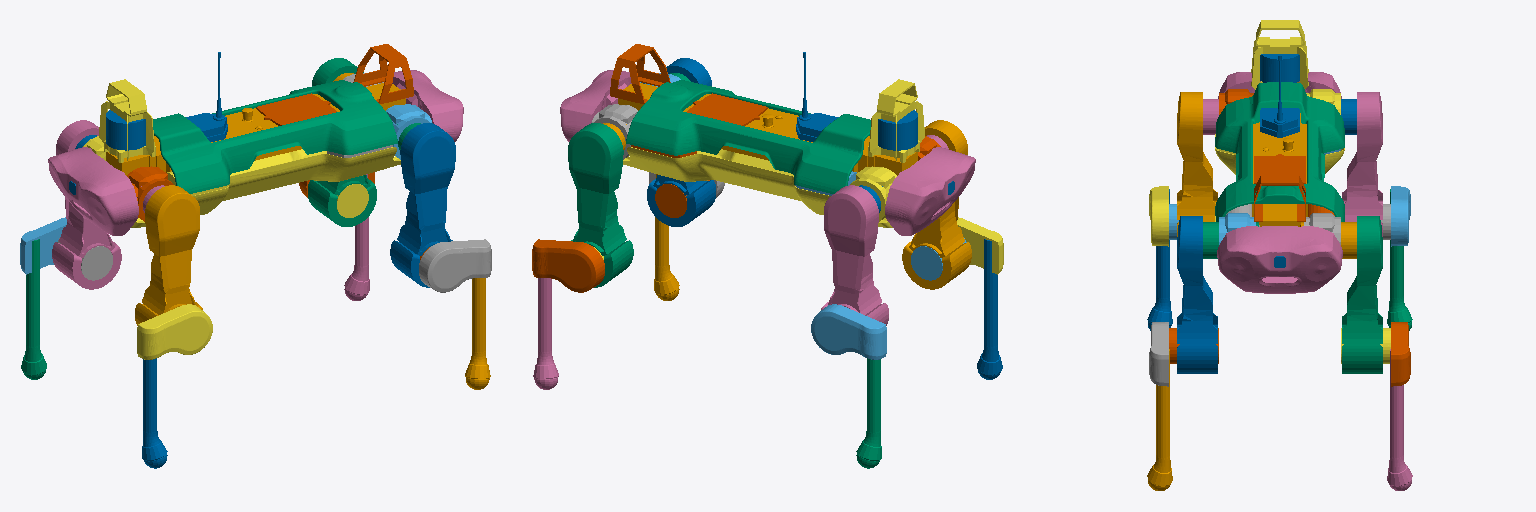
--- Facts derived from the render (not from the file) ---
Views: 3 orthographic renders of the robot side by side, from view 1: azimuth 30°, elevation 25°; view 2: azimuth 150°, elevation 25°; view 3: azimuth 270°, elevation 25°.
Model anymal with 78 links and 77 joints (12 revolute, 65 fixed), rooted at base, posed all joints at 0.
Visible links, largest first — view 1: top_shell, RF_thigh_fixed, RH_thigh_fixed, bottom_shell, face_rear, LH_thigh_fixed, RH_shank_fixed, RF_shank_fixed, LF_thigh_fixed, base, lidar_cage, face_front (+13 smaller); view 2: top_shell, LF_thigh_fixed, LH_thigh_fixed, bottom_shell, face_rear, RH_thigh_fixed, LH_shank_fixed, LF_shank_fixed, RF_thigh_fixed, base, lidar_cage, face_front (+13 smaller); view 3: top_shell, face_front, LF_thigh_fixed, RF_thigh_fixed, RH_thigh_fixed, LH_thigh_fixed, base, lidar_cage, LF_FOOT, RF_FOOT, LH_FOOT, RH_FOOT (+14 smaller).
Boxes of the visible links, box(x1,y1,x2,y2) form: top_shell: box(153, 80, 397, 193); RF_thigh_fixed: box(390, 123, 455, 287); RH_thigh_fixed: box(135, 185, 202, 325); bottom_shell: box(131, 147, 400, 227); face_rear: box(48, 147, 138, 235); LH_thigh_fixed: box(52, 120, 121, 289); RH_shank_fixed: box(137, 304, 212, 359); RF_shank_fixed: box(419, 239, 491, 292); LF_thigh_fixed: box(308, 58, 376, 226); base: box(106, 83, 405, 175); lidar_cage: box(99, 79, 155, 162); face_front: box(392, 70, 463, 141); top_shell: box(626, 80, 870, 193); LF_thigh_fixed: box(568, 123, 633, 287); LH_thigh_fixed: box(821, 185, 888, 325); bottom_shell: box(623, 147, 892, 227); face_rear: box(885, 147, 975, 235); RH_thigh_fixed: box(902, 120, 971, 289); LH_shank_fixed: box(811, 304, 886, 359); LF_shank_fixed: box(532, 239, 604, 292); RF_thigh_fixed: box(647, 58, 715, 226); base: box(618, 83, 917, 175); lidar_cage: box(868, 79, 924, 162); face_front: box(560, 70, 631, 141); top_shell: box(1215, 82, 1344, 221); face_front: box(1217, 226, 1342, 293); LF_thigh_fixed: box(1342, 216, 1382, 373); RF_thigh_fixed: box(1177, 216, 1217, 373); RH_thigh_fixed: box(1177, 92, 1217, 236); LH_thigh_fixed: box(1342, 92, 1382, 236); base: box(1252, 113, 1307, 226); lidar_cage: box(1251, 20, 1308, 89); LF_FOOT: box(1387, 349, 1412, 490); RF_FOOT: box(1147, 349, 1172, 490); LH_FOOT: box(1387, 189, 1412, 330); RH_FOOT: box(1147, 189, 1172, 330).
Size in the robot's own frame: 1.05 by 0.6518 by 0.9164 metres.
Meshes: 19 distinct files referenced, 40 mesh visuals loaded (17 binary STL); not drawn: 5 (reference not matched to a file when rendering).

URDF robot description (anymal):
<?xml version="1.0" encoding="utf-8"?>
<!-- =================================================================================== -->
<!--   Copyright 2020 ANYbotics, https://www.anybotics.com                               -->
<!-- =================================================================================== -->
<!-- This file contains the description of the ANYmal C robot. -->
<robot name="anymal">
<mujoco>
    <compiler 
    meshdir="../meshes/" 
    balanceinertia="true" 
    discardvisual="false" />
</mujoco>
    <!-- Base link -->
    <link name="base">
        <visual>
            <origin rpy="0 0 0" xyz="0 0 0"/>
            <geometry>
                <mesh filename="base.stl" scale="1.0 1.0 1.0"/>
            </geometry>
        </visual>
        <collision>
            <origin rpy="0 0 0" xyz="0 0 0"/>
            <geometry>
                <box size="0.58 0.14 0.18"/>
            </geometry>
        </collision>
        <collision>
            <origin rpy="0 1.57079632679 0" xyz="0.2175 0.07 0"/>
            <geometry>
                <cylinder length="0.145" radius="0.09"/>
            </geometry>
        </collision>
        <collision>
            <origin rpy="0 1.57079632679 0" xyz="-0.2175 0.07 0"/>
            <geometry>
                <cylinder length="0.145" radius="0.09"/>
            </geometry>
        </collision>
        <collision>
            <origin rpy="0 1.57079632679 0" xyz="0.2175 -0.07 0"/>
            <geometry>
                <cylinder length="0.145" radius="0.09"/>
            </geometry>
        </collision>
        <collision>
            <origin rpy="0 1.57079632679 0" xyz="-0.2175 -0.07 0"/>
            <geometry>
                <cylinder length="0.145" radius="0.09"/>
            </geometry>
        </collision>
        <!-- Shell self filtering -->
        <self_filter>
            <origin rpy="0 0 0" xyz="0 0 0"/>
            <geometry>
                <box size="1.05 0.5 0.5"/>
            </geometry>
        </self_filter>
    </link>
    <!-- Fixed joint to add dummy inertia link -->
    <joint name="base_to_base_inertia" type="fixed">
        <parent link="base"/>
        <child link="base_inertia"/>
        <origin rpy="0 0 0" xyz="0 0 0"/>
    </joint>
    <!-- Dummy inertia link, because KDL cannot have inertia on the base link -->
    <link name="base_inertia">
        <inertial>
            <origin rpy="0 0 0" xyz="-0.018 -0.002 0.024"/>
            <mass value="6.222"/>
            <inertia ixx="0.017938806" ixy="0.00387963" ixz="0.001500772" iyy="0.370887745" iyz="6.8963e-05" izz="0.372497653"/>
        </inertial>
    </link>
    <!-- Fixed joint base topshell -->
    <joint name="base_top_shell" type="fixed">
        <parent link="base"/>
        <child link="top_shell"/>
        <origin rpy="0 0 0" xyz="0 0 0"/>
    </joint>
    <!-- Top shell link -->
    <link name="top_shell">
        <visual>
            <origin rpy="0 0 0" xyz="0 0 0"/>
            <geometry>
                <mesh filename="top_shell.stl" scale="1.0 1.0 1.0"/>
            </geometry>
        </visual>
        <inertial>
            <origin rpy="0 0 0" xyz="-0.00777 -0.00013 0.06523"/>
            <mass value="0.534"/>
            <inertia ixx="0.00664789486" ixy="1.247923e-05" ixz="0.00053990097" iyy="0.02587392411" iyz="3.7614e-07" izz="0.03152303792"/>
        </inertial>
    </link>
    <!-- Fixed joint base topshell -->
    <joint name="base_bottom_shell" type="fixed">
        <parent link="base"/>
        <child link="bottom_shell"/>
        <origin rpy="0 0 0" xyz="0 0 0"/>
    </joint>
    <!-- Bottom shell link -->
    <link name="bottom_shell">
        <visual>
            <origin rpy="0 0 0" xyz="0 0 0"/>
            <geometry>
                <mesh filename="bottom_shell.stl" scale="1.0 1.0 1.0"/>
            </geometry>
        </visual>
        <inertial>
            <origin rpy="0 0 0" xyz="-0.00333 1e-05 -0.07705"/>
            <mass value="1.15"/>
            <inertia ixx="0.00927353677" ixy="5.41222e-06" ixz="9.039821e-05" iyy="0.06134388239" iyz="2.3042e-07" izz="0.06853531465"/>
        </inertial>
    </link>
    <!-- Fixed joint base remote -->
    <joint name="base_remote" type="fixed">
        <parent link="base"/>
        <child link="remote"/>
        <origin rpy="0 0 0" xyz="0 0 0"/>
    </joint>
    <!-- Remote link -->
    <link name="remote">
        <visual>
            <origin rpy="0 0 0" xyz="0 0 0"/>
            <geometry>
                <mesh filename="remote.stl" scale="1.0 1.0 1.0"/>
            </geometry>
        </visual>
        <inertial>
            <origin rpy="0 0 0" xyz="-0.171 0.002 0.096"/>
            <mass value="0.3262"/>
            <inertia ixx="0.000528486" ixy="4.547e-05" ixz="1.10327e-05" iyy="0.001165035" iyz="7.4e-07" izz="0.00124026"/>
        </inertial>
    </link>
    <!-- Fixed joint base handle -->
    <joint name="base_handle" type="fixed">
        <parent link="base"/>
        <child link="handle"/>
        <origin rpy="0 0 0" xyz="0 0 0"/>
    </joint>
    <!-- Handle link -->
    <link name="handle">
        <visual>
            <origin rpy="0 0 0" xyz="0 0 0"/>
            <geometry>
                <mesh filename="handle.stl" scale="1.0 1.0 1.0"/>
            </geometry>
        </visual>
        <inertial>
            <origin rpy="0 0 0" xyz="0.37801 0.0 0.1372"/>
            <mass value="0.314"/>
            <inertia ixx="0.001525739" ixy="0.0" ixz="6.272e-05" iyy="0.00071584" iyz="1e-09" izz="0.001164779"/>
        </inertial>
    </link>
    <!-- Fixed joint base face -->
    <joint name="base_face_front" type="fixed">
        <parent link="base"/>
        <child link="face_front"/>
        <origin rpy="0 0 -0.0" xyz="0.4145 0 0"/>
    </joint>
    <!-- Shell link -->
    <link name="face_front">
        <visual>
            <origin rpy="0 0 0" xyz="0 0 0"/>
            <geometry>
                <mesh filename="face.stl" scale="1.0 1.0 1.0"/>
            </geometry>
        </visual>
        <collision>
            <origin rpy="0 0 0" xyz="0.055 0 0"/>
            <geometry>
                <box size="0.11 0.14 0.18"/>
            </geometry>
        </collision>
        <collision>
            <origin rpy="0 1.57079632679 0" xyz="0.055 0.07 0"/>
            <geometry>
                <cylinder length="0.11" radius="0.09"/>
            </geometry>
        </collision>
        <collision>
            <origin rpy="0 1.57079632679 0" xyz="0.055 -0.07 0"/>
            <geometry>
                <cylinder length="0.11" radius="0.09"/>
            </geometry>
        </collision>
        <inertial>
            <origin rpy="0 0 0" xyz="0.042 -0.001 0.004"/>
            <mass value="0.73"/>
            <inertia ixx="0.005238611" ixy="1.7609e-05" ixz="7.2167e-05" iyy="0.002643098" iyz="1.9548e-05" izz="0.004325938"/>
        </inertial>
    </link>
    <!-- Camera joint -->
    <!-- Is located between the two back screw holes at ground level. -->
    <joint name="face_front_to_depth_camera_front_camera" type="fixed">
        <parent link="face_front"/>
        <child link="depth_camera_front_camera"/>
        <origin rpy="0.0 0.523598775598 0" xyz="0.04715 0.0 -0.0292"/>
    </joint>
    <!-- Camera link -->
    <link name="depth_camera_front_camera">
        <visual>
            <origin rpy="0 0 0" xyz="0.0 0.0 0.0"/>
            <geometry>
                <mesh filename="depth_camera.stl" scale="1.0 1.0 1.0"/>
            </geometry>
        </visual>
        <inertial>
            <origin rpy="0 0 0" xyz="-0.021 -0.002 0.025"/>
            <mass value="0.16043"/>
            <inertia ixx="0.000637051" ixy="0.000484569" ixz="0.000424211" iyy="0.000929402" iyz="5.138e-06" izz="0.000484569"/>
        </inertial>
    </link>
    <!-- Camera parent joint -->
    <!-- Frame lies on the left ir camera according to any_realsense2_camera urdf. -->
    <joint name="depth_camera_front_camera_to_camera_parent" type="fixed">
        <parent link="depth_camera_front_camera"/>
        <child link="depth_camera_front_camera_parent"/>
        <origin rpy="0.0 0.0 0.0" xyz="0.0255 0.0175 0.0"/>
    </joint>
    <!-- Camera parent link -->
    <link name="depth_camera_front_camera_parent"/>
    <!-- Depth optical frame joint -->
    <joint name="depth_camera_front_camera_parent_to_depth_optical_frame" type="fixed">
        <parent link="depth_camera_front_camera_parent"/>
        <child link="depth_camera_front_depth_optical_frame"/>
        <origin rpy="-1.57079632679 0.0 -1.57079632679" xyz="0.0 0.0 0.0"/>
    </joint>
    <!-- Depth optical frame link -->
    <link name="depth_camera_front_depth_optical_frame"/>
    <!-- Camera color frame joint -->
    <joint name="depth_camera_front_camera_parent_to_color_frame" type="fixed">
        <parent link="depth_camera_front_camera_parent"/>
        <child link="depth_camera_front_color_frame"/>
        <origin rpy="0 0 0" xyz="0 0.015 0"/>
    </joint>
    <!-- Camera color frame link -->
    <link name="depth_camera_front_color_frame"/>
    <!-- Camera color optical joint -->
    <joint name="depth_camera_front_color_frame_to_color_optical_frame" type="fixed">
        <parent link="depth_camera_front_color_frame"/>
        <child link="depth_camera_front_color_optical_frame"/>
        <origin rpy="-1.57079632679 0.0 -1.57079632679" xyz="0.0 0.0 0.0"/>
    </joint>
    <!-- Camera color optical link -->
    <link name="depth_camera_front_color_optical_frame"/>
    <!-- Camera joint -->
    <!-- Is located in the center of the mounting points. -->
    <joint name="face_front_to_wide_angle_camera_front_camera" type="fixed">
        <parent link="face_front"/>
        <child link="wide_angle_camera_front_camera"/>
        <origin rpy="0 0 0" xyz="0.09850 0.0 0.01497"/>
    </joint>
    <!-- Camera link -->
    <link name="wide_angle_camera_front_camera">
        <visual>
            <origin rpy="0 0 0" xyz="0.0 0.0 0.0"/>
            <geometry>
                <mesh filename="wide_angle_camera.stl" scale="1.0 1.0 1.0"/>
            </geometry>
        </visual>
        <inertial>
            <origin rpy="0 0 0" xyz="-0.053 -0.001 0.025"/>
            <mass value="0.287"/>
            <inertia ixx="0.000559232" ixy="1.6875e-05" ixz="0.000423761" iyy="0.000946504" iyz="1.3234e-07" izz="0.000493052"/>
        </inertial>
    </link>
    <!-- Camera parent joint -->
    <joint name="wide_angle_camera_front_camera_to_camera_parent" type="fixed">
        <parent link="wide_angle_camera_front_camera"/>
        <child link="wide_angle_camera_front_camera_parent"/>
        <origin rpy="-1.57079632679 0.0 -1.57079632679" xyz="0.0 0.0 0.0"/>
    </joint>
    <!-- Camera parent link -->
    <link name="wide_angle_camera_front_camera_parent"/>
    <!-- Fixed joint base face -->
    <joint name="base_face_rear" type="fixed">
        <parent link="base"/>
        <child link="face_rear"/>
        <origin rpy="0 0 3.14159265359" xyz="-0.4145 0 0"/>
    </joint>
    <!-- Shell link -->
    <link name="face_rear">
        <visual>
            <origin rpy="0 0 0" xyz="0 0 0"/>
            <geometry>
                <mesh filename="face.stl" scale="1.0 1.0 1.0"/>
            </geometry>
        </visual>
        <collision>
            <origin rpy="0 0 0" xyz="0.055 0 0"/>
            <geometry>
                <box size="0.11 0.14 0.18"/>
            </geometry>
        </collision>
        <collision>
            <origin rpy="0 1.57079632679 0" xyz="0.055 0.07 0"/>
            <geometry>
                <cylinder length="0.11" radius="0.09"/>
            </geometry>
        </collision>
        <collision>
            <origin rpy="0 1.57079632679 0" xyz="0.055 -0.07 0"/>
            <geometry>
                <cylinder length="0.11" radius="0.09"/>
            </geometry>
        </collision>
        <inertial>
            <origin rpy="0 0 0" xyz="0.042 -0.001 0.004"/>
            <mass value="0.73"/>
            <inertia ixx="0.005238611" ixy="1.7609e-05" ixz="7.2167e-05" iyy="0.002643098" iyz="1.9548e-05" izz="0.004325938"/>
        </inertial>
    </link>
    <!-- Camera joint -->
    <!-- Is located between the two back screw holes at ground level. -->
    <joint name="face_rear_to_depth_camera_rear_camera" type="fixed">
        <parent link="face_rear"/>
        <child link="depth_camera_rear_camera"/>
        <origin rpy="0.0 0.523598775598 0" xyz="0.04715 0.0 -0.0292"/>
    </joint>
    <!-- Camera link -->
    <link name="depth_camera_rear_camera">
        <visual>
            <origin rpy="0 0 0" xyz="0.0 0.0 0.0"/>
            <geometry>
                <mesh filename="depth_camera.stl" scale="1.0 1.0 1.0"/>
            </geometry>
        </visual>
        <inertial>
            <origin rpy="0 0 0" xyz="-0.021 -0.002 0.025"/>
            <mass value="0.16043"/>
            <inertia ixx="0.000637051" ixy="0.000484569" ixz="0.000424211" iyy="0.000929402" iyz="5.138e-06" izz="0.000484569"/>
        </inertial>
    </link>
    <!-- Camera parent joint -->
    <!-- Frame lies on the left ir camera according to any_realsense2_camera urdf. -->
    <joint name="depth_camera_rear_camera_to_camera_parent" type="fixed">
        <parent link="depth_camera_rear_camera"/>
        <child link="depth_camera_rear_camera_parent"/>
        <origin rpy="0.0 0.0 0.0" xyz="0.0255 0.0175 0.0"/>
    </joint>
    <!-- Camera parent link -->
    <link name="depth_camera_rear_camera_parent"/>
    <!-- Depth optical frame joint -->
    <joint name="depth_camera_rear_camera_parent_to_depth_optical_frame" type="fixed">
        <parent link="depth_camera_rear_camera_parent"/>
        <child link="depth_camera_rear_depth_optical_frame"/>
        <origin rpy="-1.57079632679 0.0 -1.57079632679" xyz="0.0 0.0 0.0"/>
    </joint>
    <!-- Depth optical frame link -->
    <link name="depth_camera_rear_depth_optical_frame"/>
    <!-- Camera color frame joint -->
    <joint name="depth_camera_rear_camera_parent_to_color_frame" type="fixed">
        <parent link="depth_camera_rear_camera_parent"/>
        <child link="depth_camera_rear_color_frame"/>
        <origin rpy="0 0 0" xyz="0 0.015 0"/>
    </joint>
    <!-- Camera color frame link -->
    <link name="depth_camera_rear_color_frame"/>
    <!-- Camera color optical joint -->
    <joint name="depth_camera_rear_color_frame_to_color_optical_frame" type="fixed">
        <parent link="depth_camera_rear_color_frame"/>
        <child link="depth_camera_rear_color_optical_frame"/>
        <origin rpy="-1.57079632679 0.0 -1.57079632679" xyz="0.0 0.0 0.0"/>
    </joint>
    <!-- Camera color optical link -->
    <link name="depth_camera_rear_color_optical_frame"/>
    <!-- Camera joint -->
    <!-- Is located in the center of the mounting points. -->
    <joint name="face_rear_to_wide_angle_camera_rear_camera" type="fixed">
        <parent link="face_rear"/>
        <child link="wide_angle_camera_rear_camera"/>
        <origin rpy="0 0 0" xyz="0.09850 0.0 0.01497"/>
    </joint>
    <!-- Camera link -->
    <link name="wide_angle_camera_rear_camera">
        <visual>
            <origin rpy="0 0 0" xyz="0.0 0.0 0.0"/>
            <geometry>
                <mesh filename="wide_angle_camera.stl" scale="1.0 1.0 1.0"/>
            </geometry>
        </visual>
        <inertial>
            <origin rpy="0 0 0" xyz="-0.053 -0.001 0.025"/>
            <mass value="0.287"/>
            <inertia ixx="0.000559232" ixy="1.6875e-05" ixz="0.000423761" iyy="0.000946504" iyz="1.3234e-07" izz="0.000493052"/>
        </inertial>
    </link>
    <!-- Camera parent joint -->
    <joint name="wide_angle_camera_rear_camera_to_camera_parent" type="fixed">
        <parent link="wide_angle_camera_rear_camera"/>
        <child link="wide_angle_camera_rear_camera_parent"/>
        <origin rpy="-1.57079632679 0.0 -1.57079632679" xyz="0.0 0.0 0.0"/>
    </joint>
    <!-- Camera parent link -->
    <link name="wide_angle_camera_rear_camera_parent"/>
    <!-- Fixed joint base battery -->
    <joint name="base_battery" type="fixed">
        <parent link="base"/>
        <child link="battery"/>
        <origin rpy="0 0 0" xyz="0 0 0"/>
    </joint>
    <!-- Shell link -->
    <link name="battery">
        <visual>
            <origin rpy="0 0 0" xyz="0 0 0"/>
            <geometry>
                <mesh filename="battery.stl" scale="1.0 1.0 1.0"/>
            </geometry>
        </visual>
        <inertial>
            <origin rpy="0 0 0" xyz="-0.00067 -0.00023 -0.03362"/>
            <mass value="5.53425"/>
            <inertia ixx="0.00749474794" ixy="0.00016686282" ixz="7.82763e-05" iyy="0.0722338913" iyz="1.42902e-06" izz="0.07482717535"/>
        </inertial>
    </link>
    <!-- Fixed joint to add docking  -->
    <joint name="base_to_docking_hatch_cover" type="fixed">
        <parent link="base"/>
        <child link="docking_hatch_cover"/>
        <origin rpy="0 0 0" xyz="0.343 0.0 -0.07"/>
    </joint>
    <!-- Hatch cover link -->
    <link name="docking_hatch_cover">
        <!--  TODO(fgiraldez): add visual    -->
        <inertial>
            <origin rpy="0 0 0" xyz="-0.003 0.0 0.005"/>
            <mass value="0.065"/>
            <inertia ixx="0.00063283" ixy="0.0" ixz="3.45e-07" iyy="0.00110971" iyz="0.0" izz="0.00171883"/>
        </inertial>
    </link>
    <link name="imu_link">
        <visual>
            <origin rpy="0 0 0" xyz="0 0 0.005"/>
            <geometry>
                <box size="0.024 0.024 0.01"/>
            </geometry>
            <material name="orange"/>
        </visual>
        <collision>
            <origin rpy="0 0 0" xyz="0 0 0.005"/>
            <geometry>
                <box size="0.024 0.024 0.01"/>
            </geometry>
        </collision>
        <inertial>
            <mass value="0.01"/>
            <origin xyz="0 0 0"/>
            <inertia ixx="5.63333333333e-07" ixy="0.0" ixz="0.0" iyy="9.6e-07" iyz="0.0" izz="5.63333333333e-07"/>
        </inertial>
    </link>
    <joint name="imu_joint" type="fixed">
        <parent link="base"/>
        <child link="imu_link"/>
        <origin rpy="0.0 0.0 1.57079632679" xyz="0.2488 0.00835 0.04628"/>
    </joint>
    <!-- Camera joint -->
    <!-- Is located between the two back screw holes at ground level. -->
    <joint name="base_to_depth_camera_left_camera" type="fixed">
        <parent link="base"/>
        <child link="depth_camera_left_camera"/>
        <origin rpy="0.0 0.523598775598 1.57079632679" xyz="0.0 0.07646 0.02905"/>
    </joint>
    <!-- Camera link -->
    <link name="depth_camera_left_camera">
        <visual>
            <origin rpy="0 0 0" xyz="0.0 0.0 0.0"/>
            <geometry>
                <mesh filename="depth_camera.stl" scale="1.0 1.0 1.0"/>
            </geometry>
        </visual>
        <inertial>
            <origin rpy="0 0 0" xyz="-0.021 -0.002 0.025"/>
            <mass value="0.16043"/>
            <inertia ixx="0.000637051" ixy="0.000484569" ixz="0.000424211" iyy="0.000929402" iyz="5.138e-06" izz="0.000484569"/>
        </inertial>
    </link>
    <!-- Camera parent joint -->
    <!-- Frame lies on the left ir camera according to any_realsense2_camera urdf. -->
    <joint name="depth_camera_left_camera_to_camera_parent" type="fixed">
        <parent link="depth_camera_left_camera"/>
        <child link="depth_camera_left_camera_parent"/>
        <origin rpy="0.0 0.0 0.0" xyz="0.0255 0.0175 0.0"/>
    </joint>
    <!-- Camera parent link -->
    <link name="depth_camera_left_camera_parent"/>
    <!-- Depth optical frame joint -->
    <joint name="depth_camera_left_camera_parent_to_depth_optical_frame" type="fixed">
        <parent link="depth_camera_left_camera_parent"/>
        <child link="depth_camera_left_depth_optical_frame"/>
        <origin rpy="-1.57079632679 0.0 -1.57079632679" xyz="0.0 0.0 0.0"/>
    </joint>
    <!-- Depth optical frame link -->
    <link name="depth_camera_left_depth_optical_frame"/>
    <!-- Camera color frame joint -->
    <joint name="depth_camera_left_camera_parent_to_color_frame" type="fixed">
        <parent link="depth_camera_left_camera_parent"/>
        <child link="depth_camera_left_color_frame"/>
        <origin rpy="0 0 0" xyz="0 0.015 0"/>
    </joint>
    <!-- Camera color frame link -->
    <link name="depth_camera_left_color_frame"/>
    <!-- Camera color optical joint -->
    <joint name="depth_camera_left_color_frame_to_color_optical_frame" type="fixed">
        <parent link="depth_camera_left_color_frame"/>
        <child link="depth_camera_left_color_optical_frame"/>
        <origin rpy="-1.57079632679 0.0 -1.57079632679" xyz="0.0 0.0 0.0"/>
    </joint>
    <!-- Camera color optical link -->
    <link name="depth_camera_left_color_optical_frame"/>
    <!-- Camera joint -->
    <!-- Is located between the two back screw holes at ground level. -->
    <joint name="base_to_depth_camera_right_camera" type="fixed">
        <parent link="base"/>
        <child link="depth_camera_right_camera"/>
        <origin rpy="0.0 0.523598775598 -1.57079632679" xyz="0.0 -0.07646 0.02905"/>
    </joint>
    <!-- Camera link -->
    <link name="depth_camera_right_camera">
        <visual>
            <origin rpy="0 0 0" xyz="0.0 0.0 0.0"/>
            <geometry>
                <mesh filename="depth_camera.stl" scale="1.0 1.0 1.0"/>
            </geometry>
        </visual>
        <inertial>
            <origin rpy="0 0 0" xyz="-0.021 -0.002 0.025"/>
            <mass value="0.16043"/>
            <inertia ixx="0.000637051" ixy="0.000484569" ixz="0.000424211" iyy="0.000929402" iyz="5.138e-06" izz="0.000484569"/>
        </inertial>
    </link>
    <!-- Camera parent joint -->
    <!-- Frame lies on the left ir camera according to any_realsense2_camera urdf. -->
    <joint name="depth_camera_right_camera_to_camera_parent" type="fixed">
        <parent link="depth_camera_right_camera"/>
        <child link="depth_camera_right_camera_parent"/>
        <origin rpy="0.0 0.0 0.0" xyz="0.0255 0.0175 0.0"/>
    </joint>
    <!-- Camera parent link -->
    <link name="depth_camera_right_camera_parent"/>
    <!-- Depth optical frame joint -->
    <joint name="depth_camera_right_camera_parent_to_depth_optical_frame" type="fixed">
        <parent link="depth_camera_right_camera_parent"/>
        <child link="depth_camera_right_depth_optical_frame"/>
        <origin rpy="-1.57079632679 0.0 -1.57079632679" xyz="0.0 0.0 0.0"/>
    </joint>
    <!-- Depth optical frame link -->
    <link name="depth_camera_right_depth_optical_frame"/>
    <!-- Camera color frame joint -->
    <joint name="depth_camera_right_camera_parent_to_color_frame" type="fixed">
        <parent link="depth_camera_right_camera_parent"/>
        <child link="depth_camera_right_color_frame"/>
        <origin rpy="0 0 0" xyz="0 0.015 0"/>
    </joint>
    <!-- Camera color frame link -->
    <link name="depth_camera_right_color_frame"/>
    <!-- Camera color optical joint -->
    <joint name="depth_camera_right_color_frame_to_color_optical_frame" type="fixed">
        <parent link="depth_camera_right_color_frame"/>
        <child link="depth_camera_right_color_optical_frame"/>
        <origin rpy="-1.57079632679 0.0 -1.57079632679" xyz="0.0 0.0 0.0"/>
    </joint>
    <!-- Camera color optical link -->
    <link name="depth_camera_right_color_optical_frame"/>
    <!-- parent to cage joint, located between mounting plate on trunk and the cage -->
    <joint name="base_to_lidar_cage" type="fixed">
        <parent link="base"/>
        <child link="lidar_cage"/>
        <origin rpy="0 0 0" xyz="-0.364 0.0 0.0735"/>
    </joint>
    <!-- Velodyne cage link -->
    <link name="lidar_cage">
        <visual>
            <origin rpy="0.0 0.0 0.0" xyz="0.0 0.0 0.0"/>
            <geometry>
                <mesh filename="lidar_cage.stl" scale="1.0 1.0 1.0"/>
            </geometry>
        </visual>
        <collision>
            <origin rpy="0 0 0" xyz="0 0 0.06"/>
            <geometry>
                <cylinder length="0.12" radius="0.07"/>
            </geometry>
        </collision>
        <inertial>
            <origin rpy="0.0 0.0 0.0" xyz="0.002 0.0 0.099"/>
            <mass value="0.545"/>
            <inertia ixx="0.003156254" ixy="0.0" ixz="1.0992e-05" iyy="0.002357216" iyz="0.0" izz="0.001326455"/>
        </inertial>
    </link>
    <!-- parent to sensor joint -->
    <joint name="lidar_cage_to_lidar" type="fixed">
        <parent link="lidar_cage"/>
        <child link="lidar"/>
        <origin rpy="0.0 0.0 -1.57079632679" xyz="0.0 0.0 0.0687"/>
    </joint>
    <!-- Velodyne sensor link -->
    <link name="lidar">
        <inertial>
            <origin rpy="0.0 0.0 0.0" xyz="-0.012 0.001 -0.008"/>
            <mass value="0.695"/>
            <inertia ixx="0.000846765" ixy="6.9565e-05" ixz="0.00027111" iyy="0.001367583" iyz="5.8984e-05" izz="0.001363673"/>
        </inertial>
        <visual>
            <origin xyz="0 0 0"/>
            <geometry>
                <mesh filename="lidar.stl"/>
            </geometry>
        </visual>
    </link>
    <!-- joint base HAA -->
    <joint name="base_LF_HAA" type="fixed">
        <parent link="base"/>
        <child link="LF_HAA"/>
        <origin rpy="2.61799387799 0 0.0" xyz="0.2999 0.104 0.0"/>
    </joint>
    <!-- Drive link -->
    <link name="LF_HAA">
        <visual>
            <origin rpy="0 0 0" xyz="0 0 0"/>
            <geometry>
                <mesh filename="drive.stl" scale="1.0 1.0 1.0"/>
            </geometry>
        </visual>
        <inertial>
            <origin rpy="0 0 0" xyz="-0.063 7e-05 0.00046"/>
            <mass value="2.04"/>
            <inertia ixx="0.001053013" ixy="4.527e-05" ixz="8.855e-05" iyy="0.001805509" iyz="9.909e-05" izz="0.001765827"/>
        </inertial>
    </link>
    <!-- joint Drive output -->
    <joint name="LF_HAA" type="revolute">
        <parent link="LF_HAA"/>
        <child link="LF_HIP"/>
        <origin rpy="0 0 0" xyz="0 0 0"/>
        <axis xyz="1 0 0"/>
        <limit effort="80.0" lower="-0.72" upper="0.49" velocity="7.5"/>
        <dynamics damping="0.0" friction="0.0"/>
    </joint>
    <!-- Drive output link -->
    <link name="LF_HIP">
        <inertial>
            <origin rpy="0 0 0" xyz="0 0 0"/>
            <mass value="0.001"/>
            <inertia ixx="0.000001" ixy="0.0" ixz="0.0" iyy="0.000001" iyz="0.0" izz="0.000001"/>
        </inertial>
    </link>
    <!-- joint HAA hip -->
    <joint name="LF_HIP_LF_hip_fixed" type="fixed">
        <parent link="LF_HIP"/>
        <child link="LF_hip_fixed"/>
        <origin rpy="-2.61799387799 0 0.0" xyz="0 0 0"/>
    </joint>
    <!-- Hip link -->
    <link name="LF_hip_fixed">
        <visual>
            <origin rpy="0 0 0.0" xyz="0 0 0"/>
            <geometry>
                <mesh filename="hip_l.stl" scale="1.0 1.0 1.0"/>
            </geometry>
        </visual>
        <inertial>
            <origin rpy="0 0 0" xyz="0.048 0.008 -0.003"/>
            <mass value="0.74"/>
            <inertia ixx="0.001393106" ixy="8.4012e-05" ixz="2.3378e-05" iyy="0.003798579" iyz="7.1319e-05" izz="0.003897509"/>
        </inertial>
    </link>
    <!-- joint hip HFE -->
    <joint name="LF_hip_fixed_LF_HFE" type="fixed">
        <parent link="LF_hip_fixed"/>
        <child link="LF_HFE"/>
        <origin rpy="0 0 1.57079632679" xyz="0.0599 0.08381 0.0"/>
    </joint>
    <!-- Drive link -->
    <link name="LF_HFE">
        <visual>
            <origin rpy="0 0 0" xyz="0 0 0"/>
            <geometry>
                <mesh filename="drive.stl" scale="1.0 1.0 1.0"/>
            </geometry>
        </visual>
        <collision>
            <origin rpy="0 1.57079632679 0" xyz="-0.07 0 0"/>
            <geometry>
                <cylinder length="0.14" radius="0.05"/>
            </geometry>
        </collision>
        <inertial>
            <origin rpy="0 0 0" xyz="-0.063 7e-05 0.00046"/>
            <mass value="2.04"/>
            <inertia ixx="0.001053013" ixy="4.527e-05" ixz="8.855e-05" iyy="0.001805509" iyz="9.909e-05" izz="0.001765827"/>
        </inertial>
    </link>
    <!-- joint Drive output -->
    <joint name="LF_HFE" type="revolute">
        <parent link="LF_HFE"/>
        <child link="LF_THIGH"/>
        <origin rpy="0 0 0" xyz="0 0 0"/>
        <axis xyz="1 0 0"/>
        <limit effort="80.0" lower="-9.42477796077" upper="9.42477796077" velocity="7.5"/>
        <dynamics damping="0.0" friction="0.0"/>
    </joint>
    <!-- Drive output link -->
    <link name="LF_THIGH">
        <inertial>
            <origin rpy="0 0 0" xyz="0 0 0"/>
            <mass value="0.001"/>
            <inertia ixx="0.000001" ixy="0.0" ixz="0.0" iyy="0.000001" iyz="0.0" izz="0.000001"/>
        </inertial>
    </link>
    <!-- joint HFE thigh -->
    <joint name="LF_THIGH_LF_thigh_fixed" type="fixed">
        <parent link="LF_THIGH"/>
        <child link="LF_thigh_fixed"/>
        <origin rpy="0 0 -1.57079632679" xyz="0 0 0"/>
    </joint>
    <!-- Thigh link -->
    <link name="LF_thigh_fixed">
        <visual>
            <origin rpy="0 0 0.0" xyz="0 0 0"/>
            <geometry>
                <mesh filename="thigh.stl" scale="1.0 1.0 1.0"/>
            </geometry>
        </visual>
        <!-- Thigh collision -->
        <collision>
            <origin rpy="1.57079632679 0 0" xyz="0 0.04 0"/>
            <geometry>
                <cylinder length="0.08" radius="0.065"/>
            </geometry>
        </collision>
        <collision>
            <origin rpy="0 0 0" xyz="0 0.03 -0.1413135"/>
            <geometry>
                <box size="0.075 0.06 0.282627"/>
            </geometry>
        </collision>
        <inertial>
            <origin rpy="0 0 0" xyz="0.0 0.018 -0.169"/>
            <mass value="1.03"/>
            <inertia ixx="0.018644469" ixy="5.2e-08" ixz="1.0157e-05" iyy="0.019312599" iyz="0.002520077" izz="0.002838361"/>
        </inertial>
    </link>
    <!-- joint thigh KFE -->
    <joint name="LF_thigh_fixed_LF_KFE" type="fixed">
        <parent link="LF_thigh_fixed"/>
        <child link="LF_KFE"/>
        <origin rpy="0 0 1.57079632679" xyz="0.0 0.1003 -0.285"/>
    </joint>
    <!-- Drive link -->
    <link name="LF_KFE">
        <visual>
            <origin rpy="0 0 0" xyz="0 0 0"/>
            <geometry>
                <mesh filename="drive.stl" scale="1.0 1.0 1.0"/>
            </geometry>
        </visual>
        <collision>
            <origin rpy="0 1.57079632679 0" xyz="-0.07 0 0"/>
            <geometry>
                <cylinder length="0.14" radius="0.05"/>
            </geometry>
        </collision>
        <inertial>
            <origin rpy="0 0 0" xyz="-0.063 7e-05 0.00046"/>
            <mass value="2.04"/>
            <inertia ixx="0.001053013" ixy="4.527e-05" ixz="8.855e-05" iyy="0.001805509" iyz="9.909e-05" izz="0.001765827"/>
        </inertial>
    </link>
    <!-- joint Drive output -->
    <joint name="LF_KFE" type="revolute">
        <parent link="LF_KFE"/>
        <child link="LF_SHANK"/>
        <origin rpy="0 0 0" xyz="0 0 0"/>
        <axis xyz="1 0 0"/>
        <limit effort="80.0" lower="-9.42477796077" upper="9.42477796077" velocity="7.5"/>
        <dynamics damping="0.0" friction="0.0"/>
    </joint>
    <!-- Drive output link -->
    <link name="LF_SHANK">
        <inertial>
            <origin rpy="0 0 0" xyz="0 0 0"/>
            <mass value="0.001"/>
            <inertia ixx="0.000001" ixy="0.0" ixz="0.0" iyy="0.000001" iyz="0.0" izz="0.000001"/>
        </inertial>
    </link>
    <!-- joint KFE shank -->
    <joint name="LF_shank_LF_shank_fixed" type="fixed">
        <parent link="LF_SHANK"/>
        <child link="LF_shank_fixed"/>
        <origin rpy="0 0 -1.57079632679" xyz="0 0 0"/>
    </joint>
    <!-- Shank link -->
    <link name="LF_shank_fixed">
        <visual>
            <origin rpy="0 0 0.0" xyz="0 0 0"/>
            <geometry>
                <mesh filename="shank_l.stl" scale="1.0 1.0 1.0"/>
            </geometry>
        </visual>
        <!-- Shank collision -->
        <collision>
            <origin rpy="1.57079632679 0 0" xyz="0 0.02 0"/>
            <geometry>
                <cylinder length="0.04" radius="0.06"/>
            </geometry>
        </collision>
        <collision>
            <origin rpy="1.57079632679 0 0" xyz="0.057499 0.02 0"/>
            <geometry>
                <box size="0.114998 0.0675 0.04"/>
            </geometry>
        </collision>
        <inertial>
            <origin rpy="0 0 0" xyz="0.03463 0.00688 0.00098"/>
            <mass value="0.33742"/>
            <inertia ixx="0.00032748005" ixy="2.142561e-05" ixz="1.33942e-05" iyy="0.00110974122" iyz="7.601e-08" izz="0.00089388521"/>
        </inertial>
    </link>
    <!-- Leg configurations: xx (knees bent inwards), xo (knees bent backwards) -->
    <!-- joint shank foot -->
    <joint name="LF_shank_fixed_LF_FOOT" type="fixed">
        <parent link="LF_shank_fixed"/>
        <child link="LF_FOOT"/>
        <origin rpy="0 0 0" xyz="0.08795 0.01305 -0.33797"/>
    </joint>
    <!-- Foot link -->
    <link name="LF_FOOT">
        <visual>
            <origin rpy="0 0 -0.785398163397" xyz="0 0 0"/>
            <geometry>
                <mesh filename="foot.stl" scale="1.0 1.0 1.0"/>
            </geometry>
        </visual>
        <!-- Adapter collision -->
        <collision>
            <origin rpy="0 0 0" xyz="0 0 0.168985"/>
            <geometry>
                <cylinder length="0.282504" radius="0.0175"/>
            </geometry>
        </collision>
        <!-- Foot collision -->
        <collision>
            <origin xyz="0 0 0.0225"/>
            <geometry>
                <sphere radius="0.03"/>
            </geometry>
        </collision>
        <inertial>
            <origin rpy="0 0 0" xyz="0.00948 -0.00948 0.1468"/>
            <mass value="0.25"/>
            <inertia ixx="0.00317174097" ixy="2.63048e-06" ixz="6.815581e-05" iyy="0.00317174092" iyz="6.815583e-05" izz="8.319196e-05"/>
        </inertial>
    </link>
    <!-- joint base HAA -->
    <joint name="base_RF_HAA" type="fixed">
        <parent link="base"/>
        <child link="RF_HAA"/>
        <origin rpy="-2.61799387799 0 0.0" xyz="0.2999 -0.104 0.0"/>
    </joint>
    <!-- Drive link -->
    <link name="RF_HAA">
        <visual>
            <origin rpy="0 0 0" xyz="0 0 0"/>
            <geometry>
                <mesh filename="drive.stl" scale="1.0 1.0 1.0"/>
            </geometry>
        </visual>
        <inertial>
            <origin rpy="0 0 0" xyz="-0.063 7e-05 0.00046"/>
            <mass value="2.04"/>
            <inertia ixx="0.001053013" ixy="4.527e-05" ixz="8.855e-05" iyy="0.001805509" iyz="9.909e-05" izz="0.001765827"/>
        </inertial>
    </link>
    <!-- joint Drive output -->
    <joint name="RF_HAA" type="revolute">
        <parent link="RF_HAA"/>
        <child link="RF_HIP"/>
        <origin rpy="0 0 0" xyz="0 0 0"/>
        <axis xyz="1 0 0"/>
        <limit effort="80.0" lower="-0.49" upper="0.72" velocity="7.5"/>
        <dynamics damping="0.0" friction="0.0"/>
    </joint>
    <!-- Drive output link -->
    <link name="RF_HIP">
        <inertial>
            <origin rpy="0 0 0" xyz="0 0 0"/>
            <mass value="0.001"/>
            <inertia ixx="0.000001" ixy="0.0" ixz="0.0" iyy="0.000001" iyz="0.0" izz="0.000001"/>
        </inertial>
    </link>
    <!-- joint HAA hip -->
    <joint name="RF_HIP_RF_hip_fixed" type="fixed">
        <parent link="RF_HIP"/>
        <child link="RF_hip_fixed"/>
        <origin rpy="2.61799387799 0 0.0" xyz="0 0 0"/>
    </joint>
    <!-- Hip link -->
    <link name="RF_hip_fixed">
        <visual>
            <origin rpy="0 0 0.0" xyz="0 0 0"/>
            <geometry>
                <mesh filename="hip_r.stl" scale="1.0 1.0 1.0"/>
            </geometry>
        </visual>
        <inertial>
            <origin rpy="0 0 0" xyz="0.048 -0.008 -0.003"/>
            <mass value="0.74"/>
            <inertia ixx="0.001393106" ixy="-8.4012e-05" ixz="2.3378e-05" iyy="0.003798579" iyz="-7.1319e-05" izz="0.003897509"/>
        </inertial>
    </link>
    <!-- joint hip HFE -->
    <joint name="RF_hip_fixed_RF_HFE" type="fixed">
        <parent link="RF_hip_fixed"/>
        <child link="RF_HFE"/>
        <origin rpy="0 0 -1.57079632679" xyz="0.0599 -0.08381 0.0"/>
    </joint>
    <!-- Drive link -->
    <link name="RF_HFE">
        <visual>
            <origin rpy="0 0 0" xyz="0 0 0"/>
            <geometry>
                <mesh filename="drive.stl" scale="1.0 1.0 1.0"/>
            </geometry>
        </visual>
        <collision>
            <origin rpy="0 1.57079632679 0" xyz="-0.07 0 0"/>
            <geometry>
                <cylinder length="0.14" radius="0.05"/>
            </geometry>
        </collision>
        <inertial>
            <origin rpy="0 0 0" xyz="-0.063 7e-05 0.00046"/>
            <mass value="2.04"/>
            <inertia ixx="0.001053013" ixy="4.527e-05" ixz="8.855e-05" iyy="0.001805509" iyz="9.909e-05" izz="0.001765827"/>
        </inertial>
    </link>
    <!-- joint Drive output -->
    <joint name="RF_HFE" type="revolute">
        <parent link="RF_HFE"/>
        <child link="RF_THIGH"/>
        <origin rpy="0 0 0" xyz="0 0 0"/>
        <axis xyz="-1 0 0"/>
        <limit effort="80.0" lower="-9.42477796077" upper="9.42477796077" velocity="7.5"/>
        <dynamics damping="0.0" friction="0.0"/>
    </joint>
    <!-- Drive output link -->
    <link name="RF_THIGH">
        <inertial>
            <origin rpy="0 0 0" xyz="0 0 0"/>
            <mass value="0.001"/>
            <inertia ixx="0.000001" ixy="0.0" ixz="0.0" iyy="0.000001" iyz="0.0" izz="0.000001"/>
        </inertial>
    </link>
    <!-- joint HFE thigh -->
    <joint name="RF_THIGH_RF_thigh_fixed" type="fixed">
        <parent link="RF_THIGH"/>
        <child link="RF_thigh_fixed"/>
        <origin rpy="0 0 1.57079632679" xyz="0 0 0"/>
    </joint>
    <!-- Thigh link -->
    <link name="RF_thigh_fixed">
        <visual>
            <origin rpy="0 0 -3.14159265359" xyz="0 0 0"/>
            <geometry>
                <mesh filename="thigh.stl" scale="1.0 1.0 1.0"/>
            </geometry>
        </visual>
        <!-- Thigh collision -->
        <collision>
            <origin rpy="1.57079632679 0 0" xyz="0 -0.04 0"/>
            <geometry>
                <cylinder length="0.08" radius="0.065"/>
            </geometry>
        </collision>
        <collision>
            <origin rpy="0 0 0" xyz="0 -0.03 -0.1413135"/>
            <geometry>
                <box size="0.075 0.06 0.282627"/>
            </geometry>
        </collision>
        <inertial>
            <origin rpy="0 0 0" xyz="0.0 -0.018 -0.169"/>
            <mass value="1.03"/>
            <inertia ixx="0.018644469" ixy="-5.2e-08" ixz="1.0157e-05" iyy="0.019312599" iyz="-0.002520077" izz="0.002838361"/>
        </inertial>
    </link>
    <!-- joint thigh KFE -->
    <joint name="RF_thigh_fixed_RF_KFE" type="fixed">
        <parent link="RF_thigh_fixed"/>
        <child link="RF_KFE"/>
        <origin rpy="0 0 -1.57079632679" xyz="0.0 -0.1003 -0.285"/>
    </joint>
    <!-- Drive link -->
    <link name="RF_KFE">
        <visual>
            <origin rpy="0 0 0" xyz="0 0 0"/>
            <geometry>
                <mesh filename="drive.stl" scale="1.0 1.0 1.0"/>
            </geometry>
        </visual>
        <collision>
            <origin rpy="0 1.57079632679 0" xyz="-0.07 0 0"/>
            <geometry>
                <cylinder length="0.14" radius="0.05"/>
            </geometry>
        </collision>
        <inertial>
            <origin rpy="0 0 0" xyz="-0.063 7e-05 0.00046"/>
            <mass value="2.04"/>
            <inertia ixx="0.001053013" ixy="4.527e-05" ixz="8.855e-05" iyy="0.001805509" iyz="9.909e-05" izz="0.001765827"/>
        </inertial>
    </link>
    <!-- joint Drive output -->
    <joint name="RF_KFE" type="revolute">
        <parent link="RF_KFE"/>
        <child link="RF_SHANK"/>
        <origin rpy="0 0 0" xyz="0 0 0"/>
        <axis xyz="-1 0 0"/>
        <limit effort="80.0" lower="-9.42477796077" upper="9.42477796077" velocity="7.5"/>
        <dynamics damping="0.0" friction="0.0"/>
    </joint>
    <!-- Drive output link -->
    <link name="RF_SHANK">
        <inertial>
            <origin rpy="0 0 0" xyz="0 0 0"/>
            <mass value="0.001"/>
            <inertia ixx="0.000001" ixy="0.0" ixz="0.0" iyy="0.000001" iyz="0.0" izz="0.000001"/>
        </inertial>
    </link>
    <!-- joint KFE shank -->
    <joint name="RF_shank_RF_shank_fixed" type="fixed">
        <parent link="RF_SHANK"/>
        <child link="RF_shank_fixed"/>
        <origin rpy="0 0 1.57079632679" xyz="0 0 0"/>
    </joint>
    <!-- Shank link -->
    <link name="RF_shank_fixed">
        <visual>
            <origin rpy="0 0 0.0" xyz="0 0 0"/>
            <geometry>
                <mesh filename="shank_r.stl" scale="1.0 1.0 1.0"/>
            </geometry>
        </visual>
        <!-- Shank collision -->
        <collision>
            <origin rpy="1.57079632679 0 0" xyz="0 -0.02 0"/>
            <geometry>
                <cylinder length="0.04" radius="0.06"/>
            </geometry>
        </collision>
        <collision>
            <origin rpy="1.57079632679 0 0" xyz="0.057499 -0.02 0"/>
            <geometry>
                <box size="0.114998 0.0675 0.04"/>
            </geometry>
        </collision>
        <inertial>
            <origin rpy="0 0 0" xyz="0.03463 -0.00688 0.00098"/>
            <mass value="0.33742"/>
            <inertia ixx="0.00032748005" ixy="-2.142561e-05" ixz="1.33942e-05" iyy="0.00110974122" iyz="-7.601e-08" izz="0.00089388521"/>
        </inertial>
    </link>
    <!-- Leg configurations: xx (knees bent inwards), xo (knees bent backwards) -->
    <!-- joint shank foot -->
    <joint name="RF_shank_fixed_RF_FOOT" type="fixed">
        <parent link="RF_shank_fixed"/>
        <child link="RF_FOOT"/>
        <origin rpy="0 0 0" xyz="0.08795 -0.01305 -0.33797"/>
    </joint>
    <!-- Foot link -->
    <link name="RF_FOOT">
        <visual>
            <origin rpy="0 0 0.785398163397" xyz="0 0 0"/>
            <geometry>
                <mesh filename="foot.stl" scale="1.0 1.0 1.0"/>
            </geometry>
        </visual>
        <!-- Adapter collision -->
        <collision>
            <origin rpy="0 0 0" xyz="0 0 0.168985"/>
            <geometry>
                <cylinder length="0.282504" radius="0.0175"/>
            </geometry>
        </collision>
        <!-- Foot collision -->
        <collision>
            <origin xyz="0 0 0.0225"/>
            <geometry>
                <sphere radius="0.03"/>
            </geometry>
        </collision>
        <inertial>
            <origin rpy="0 0 0" xyz="0.00948 0.00948 0.1468"/>
            <mass value="0.25"/>
            <inertia ixx="0.00317174097" ixy="-2.63048e-06" ixz="6.815581e-05" iyy="0.00317174092" iyz="-6.815583e-05" izz="8.319196e-05"/>
        </inertial>
    </link>
    <!-- joint base HAA -->
    <joint name="base_LH_HAA" type="fixed">
        <parent link="base"/>
        <child link="LH_HAA"/>
        <origin rpy="-2.61799387799 0 -3.14159265359" xyz="-0.2999 0.104 0.0"/>
    </joint>
    <!-- Drive link -->
    <link name="LH_HAA">
        <visual>
            <origin rpy="0 0 0" xyz="0 0 0"/>
            <geometry>
                <mesh filename="drive.stl" scale="1.0 1.0 1.0"/>
            </geometry>
        </visual>
        <inertial>
            <origin rpy="0 0 0" xyz="-0.063 7e-05 0.00046"/>
            <mass value="2.04"/>
            <inertia ixx="0.001053013" ixy="4.527e-05" ixz="8.855e-05" iyy="0.001805509" iyz="9.909e-05" izz="0.001765827"/>
        </inertial>
    </link>
    <!-- joint Drive output -->
    <joint name="LH_HAA" type="revolute">
        <parent link="LH_HAA"/>
        <child link="LH_HIP"/>
        <origin rpy="0 0 0" xyz="0 0 0"/>
        <axis xyz="-1 0 0"/>
        <limit effort="80.0" lower="-0.72" upper="0.49" velocity="7.5"/>
        <dynamics damping="0.0" friction="0.0"/>
    </joint>
    <!-- Drive output link -->
    <link name="LH_HIP">
        <inertial>
            <origin rpy="0 0 0" xyz="0 0 0"/>
            <mass value="0.001"/>
            <inertia ixx="0.000001" ixy="0.0" ixz="0.0" iyy="0.000001" iyz="0.0" izz="0.000001"/>
        </inertial>
    </link>
    <!-- joint HAA hip -->
    <joint name="LH_HIP_LH_hip_fixed" type="fixed">
        <parent link="LH_HIP"/>
        <child link="LH_hip_fixed"/>
        <origin rpy="-2.61799387799 0 -3.14159265359" xyz="0 0 0"/>
    </joint>
    <!-- Hip link -->
    <link name="LH_hip_fixed">
        <visual>
            <origin rpy="0 0 -3.14159265359" xyz="0 0 0"/>
            <geometry>
                <mesh filename="hip_r.stl" scale="1.0 1.0 1.0"/>
            </geometry>
        </visual>
        <inertial>
            <origin rpy="0 0 0" xyz="-0.048 0.008 -0.003"/>
            <mass value="0.74"/>
            <inertia ixx="0.001393106" ixy="-8.4012e-05" ixz="-2.3378e-05" iyy="0.003798579" iyz="7.1319e-05" izz="0.003897509"/>
        </inertial>
    </link>
    <!-- joint hip HFE -->
    <joint name="LH_hip_fixed_LH_HFE" type="fixed">
        <parent link="LH_hip_fixed"/>
        <child link="LH_HFE"/>
        <origin rpy="0 0 1.57079632679" xyz="-0.0599 0.08381 0.0"/>
    </joint>
    <!-- Drive link -->
    <link name="LH_HFE">
        <visual>
            <origin rpy="0 0 0" xyz="0 0 0"/>
            <geometry>
                <mesh filename="drive.stl" scale="1.0 1.0 1.0"/>
            </geometry>
        </visual>
        <collision>
            <origin rpy="0 1.57079632679 0" xyz="-0.07 0 0"/>
            <geometry>
                <cylinder length="0.14" radius="0.05"/>
            </geometry>
        </collision>
        <inertial>
            <origin rpy="0 0 0" xyz="-0.063 7e-05 0.00046"/>
            <mass value="2.04"/>
            <inertia ixx="0.001053013" ixy="4.527e-05" ixz="8.855e-05" iyy="0.001805509" iyz="9.909e-05" izz="0.001765827"/>
        </inertial>
    </link>
    <!-- joint Drive output -->
    <joint name="LH_HFE" type="revolute">
        <parent link="LH_HFE"/>
        <child link="LH_THIGH"/>
        <origin rpy="0 0 0" xyz="0 0 0"/>
        <axis xyz="1 0 0"/>
        <limit effort="80.0" lower="-9.42477796077" upper="9.42477796077" velocity="7.5"/>
        <dynamics damping="0.0" friction="0.0"/>
    </joint>
    <!-- Drive output link -->
    <link name="LH_THIGH">
        <inertial>
            <origin rpy="0 0 0" xyz="0 0 0"/>
            <mass value="0.001"/>
            <inertia ixx="0.000001" ixy="0.0" ixz="0.0" iyy="0.000001" iyz="0.0" izz="0.000001"/>
        </inertial>
    </link>
    <!-- joint HFE thigh -->
    <joint name="LH_THIGH_LH_thigh_fixed" type="fixed">
        <parent link="LH_THIGH"/>
        <child link="LH_thigh_fixed"/>
        <origin rpy="0 0 -1.57079632679" xyz="0 0 0"/>
    </joint>
    <!-- Thigh link -->
    <link name="LH_thigh_fixed">
        <visual>
            <origin rpy="0 0 0.0" xyz="0 0 0"/>
            <geometry>
                <mesh filename="thigh.stl" scale="1.0 1.0 1.0"/>
            </geometry>
        </visual>
        <!-- Thigh collision -->
        <collision>
            <origin rpy="1.57079632679 0 0" xyz="0 0.04 0"/>
            <geometry>
                <cylinder length="0.08" radius="0.065"/>
            </geometry>
        </collision>
        <collision>
            <origin rpy="0 0 0" xyz="0 0.03 -0.1413135"/>
            <geometry>
                <box size="0.075 0.06 0.282627"/>
            </geometry>
        </collision>
        <inertial>
            <origin rpy="0 0 0" xyz="-0.0 0.018 -0.169"/>
            <mass value="1.03"/>
            <inertia ixx="0.018644469" ixy="-5.2e-08" ixz="-1.0157e-05" iyy="0.019312599" iyz="0.002520077" izz="0.002838361"/>
        </inertial>
    </link>
    <!-- joint thigh KFE -->
    <joint name="LH_thigh_fixed_LH_KFE" type="fixed">
        <parent link="LH_thigh_fixed"/>
        <child link="LH_KFE"/>
        <origin rpy="0 0 1.57079632679" xyz="-0.0 0.1003 -0.285"/>
    </joint>
    <!-- Drive link -->
    <link name="LH_KFE">
        <visual>
            <origin rpy="0 0 0" xyz="0 0 0"/>
            <geometry>
                <mesh filename="drive.stl" scale="1.0 1.0 1.0"/>
            </geometry>
        </visual>
        <collision>
            <origin rpy="0 1.57079632679 0" xyz="-0.07 0 0"/>
            <geometry>
                <cylinder length="0.14" radius="0.05"/>
            </geometry>
        </collision>
        <inertial>
            <origin rpy="0 0 0" xyz="-0.063 7e-05 0.00046"/>
            <mass value="2.04"/>
            <inertia ixx="0.001053013" ixy="4.527e-05" ixz="8.855e-05" iyy="0.001805509" iyz="9.909e-05" izz="0.001765827"/>
        </inertial>
    </link>
    <!-- joint Drive output -->
    <joint name="LH_KFE" type="revolute">
        <parent link="LH_KFE"/>
        <child link="LH_SHANK"/>
        <origin rpy="0 0 0" xyz="0 0 0"/>
        <axis xyz="1 0 0"/>
        <limit effort="80.0" lower="-9.42477796077" upper="9.42477796077" velocity="7.5"/>
        <dynamics damping="0.0" friction="0.0"/>
    </joint>
    <!-- Drive output link -->
    <link name="LH_SHANK">
        <inertial>
            <origin rpy="0 0 0" xyz="0 0 0"/>
            <mass value="0.001"/>
            <inertia ixx="0.000001" ixy="0.0" ixz="0.0" iyy="0.000001" iyz="0.0" izz="0.000001"/>
        </inertial>
    </link>
    <!-- joint KFE shank -->
    <joint name="LH_shank_LH_shank_fixed" type="fixed">
        <parent link="LH_SHANK"/>
        <child link="LH_shank_fixed"/>
        <origin rpy="0 0 -1.57079632679" xyz="0 0 0"/>
    </joint>
    <!-- Shank link -->
    <link name="LH_shank_fixed">
        <visual>
            <origin rpy="0 0 -3.14159265359" xyz="0 0 0"/>
            <geometry>
                <mesh filename="shank_r.stl" scale="1.0 1.0 1.0"/>
            </geometry>
        </visual>
        <!-- Shank collision -->
        <collision>
            <origin rpy="1.57079632679 0 0" xyz="0 0.02 0"/>
            <geometry>
                <cylinder length="0.04" radius="0.06"/>
            </geometry>
        </collision>
        <collision>
            <origin rpy="1.57079632679 0 0" xyz="-0.057499 0.02 0"/>
            <geometry>
                <box size="0.114998 0.0675 0.04"/>
            </geometry>
        </collision>
        <inertial>
            <origin rpy="0 0 0" xyz="-0.03463 0.00688 0.00098"/>
            <mass value="0.33742"/>
            <inertia ixx="0.00032748005" ixy="-2.142561e-05" ixz="-1.33942e-05" iyy="0.00110974122" iyz="7.601e-08" izz="0.00089388521"/>
        </inertial>
    </link>
    <!-- Leg configurations: xx (knees bent inwards), xo (knees bent backwards) -->
    <!-- joint shank foot -->
    <joint name="LH_shank_fixed_LH_FOOT" type="fixed">
        <parent link="LH_shank_fixed"/>
        <child link="LH_FOOT"/>
        <origin rpy="0 0 0" xyz="-0.08795 0.01305 -0.33797"/>
    </joint>
    <!-- Foot link -->
    <link name="LH_FOOT">
        <visual>
            <origin rpy="0 0 -2.35619449019" xyz="0 0 0"/>
            <geometry>
                <mesh filename="foot.stl" scale="1.0 1.0 1.0"/>
            </geometry>
        </visual>
        <!-- Adapter collision -->
        <collision>
            <origin rpy="0 0 0" xyz="0 0 0.168985"/>
            <geometry>
                <cylinder length="0.282504" radius="0.0175"/>
            </geometry>
        </collision>
        <!-- Foot collision -->
        <collision>
            <origin xyz="0 0 0.0225"/>
            <geometry>
                <sphere radius="0.03"/>
            </geometry>
        </collision>
        <inertial>
            <origin rpy="0 0 0" xyz="-0.00948 -0.00948 0.1468"/>
            <mass value="0.25"/>
            <inertia ixx="0.00317174097" ixy="-2.63048e-06" ixz="-6.815581e-05" iyy="0.00317174092" iyz="6.815583e-05" izz="8.319196e-05"/>
        </inertial>
    </link>
    <!-- joint base HAA -->
    <joint name="base_RH_HAA" type="fixed">
        <parent link="base"/>
        <child link="RH_HAA"/>
        <origin rpy="2.61799387799 0 -3.14159265359" xyz="-0.2999 -0.104 0.0"/>
    </joint>
    <!-- Drive link -->
    <link name="RH_HAA">
        <visual>
            <origin rpy="0 0 0" xyz="0 0 0"/>
            <geometry>
                <mesh filename="drive.stl" scale="1.0 1.0 1.0"/>
            </geometry>
        </visual>
        <inertial>
            <origin rpy="0 0 0" xyz="-0.063 7e-05 0.00046"/>
            <mass value="2.04"/>
            <inertia ixx="0.001053013" ixy="4.527e-05" ixz="8.855e-05" iyy="0.001805509" iyz="9.909e-05" izz="0.001765827"/>
        </inertial>
    </link>
    <!-- joint Drive output -->
    <joint name="RH_HAA" type="revolute">
        <parent link="RH_HAA"/>
        <child link="RH_HIP"/>
        <origin rpy="0 0 0" xyz="0 0 0"/>
        <axis xyz="-1 0 0"/>
        <limit effort="80.0" lower="-0.49" upper="0.72" velocity="7.5"/>
        <dynamics damping="0.0" friction="0.0"/>
    </joint>
    <!-- Drive output link -->
    <link name="RH_HIP">
        <inertial>
            <origin rpy="0 0 0" xyz="0 0 0"/>
            <mass value="0.001"/>
            <inertia ixx="0.000001" ixy="0.0" ixz="0.0" iyy="0.000001" iyz="0.0" izz="0.000001"/>
        </inertial>
    </link>
    <!-- joint HAA hip -->
    <joint name="RH_HIP_RH_hip_fixed" type="fixed">
        <parent link="RH_HIP"/>
        <child link="RH_hip_fixed"/>
        <origin rpy="2.61799387799 0 -3.14159265359" xyz="0 0 0"/>
    </joint>
    <!-- Hip link -->
    <link name="RH_hip_fixed">
        <visual>
            <origin rpy="0 0 -3.14159265359" xyz="0 0 0"/>
            <geometry>
                <mesh filename="hip_l.stl" scale="1.0 1.0 1.0"/>
            </geometry>
        </visual>
        <inertial>
            <origin rpy="0 0 0" xyz="-0.048 -0.008 -0.003"/>
            <mass value="0.74"/>
            <inertia ixx="0.001393106" ixy="8.4012e-05" ixz="-2.3378e-05" iyy="0.003798579" iyz="-7.1319e-05" izz="0.003897509"/>
        </inertial>
    </link>
    <!-- joint hip HFE -->
    <joint name="RH_hip_fixed_RH_HFE" type="fixed">
        <parent link="RH_hip_fixed"/>
        <child link="RH_HFE"/>
        <origin rpy="0 0 -1.57079632679" xyz="-0.0599 -0.08381 0.0"/>
    </joint>
    <!-- Drive link -->
    <link name="RH_HFE">
        <visual>
            <origin rpy="0 0 0" xyz="0 0 0"/>
            <geometry>
                <mesh filename="drive.stl" scale="1.0 1.0 1.0"/>
            </geometry>
        </visual>
        <collision>
            <origin rpy="0 1.57079632679 0" xyz="-0.07 0 0"/>
            <geometry>
                <cylinder length="0.14" radius="0.05"/>
            </geometry>
        </collision>
        <inertial>
            <origin rpy="0 0 0" xyz="-0.063 7e-05 0.00046"/>
            <mass value="2.04"/>
            <inertia ixx="0.001053013" ixy="4.527e-05" ixz="8.855e-05" iyy="0.001805509" iyz="9.909e-05" izz="0.001765827"/>
        </inertial>
    </link>
    <!-- joint Drive output -->
    <joint name="RH_HFE" type="revolute">
        <parent link="RH_HFE"/>
        <child link="RH_THIGH"/>
        <origin rpy="0 0 0" xyz="0 0 0"/>
        <axis xyz="-1 0 0"/>
        <limit effort="80.0" lower="-9.42477796077" upper="9.42477796077" velocity="7.5"/>
        <dynamics damping="0.0" friction="0.0"/>
    </joint>
    <!-- Drive output link -->
    <link name="RH_THIGH">
        <inertial>
            <origin rpy="0 0 0" xyz="0 0 0"/>
            <mass value="0.001"/>
            <inertia ixx="0.000001" ixy="0.0" ixz="0.0" iyy="0.000001" iyz="0.0" izz="0.000001"/>
        </inertial>
    </link>
    <!-- joint HFE thigh -->
    <joint name="RH_THIGH_RH_thigh_fixed" type="fixed">
        <parent link="RH_THIGH"/>
        <child link="RH_thigh_fixed"/>
        <origin rpy="0 0 1.57079632679" xyz="0 0 0"/>
    </joint>
    <!-- Thigh link -->
    <link name="RH_thigh_fixed">
        <visual>
            <origin rpy="0 0 -3.14159265359" xyz="0 0 0"/>
            <geometry>
                <mesh filename="thigh.stl" scale="1.0 1.0 1.0"/>
            </geometry>
        </visual>
        <!-- Thigh collision -->
        <collision>
            <origin rpy="1.57079632679 0 0" xyz="0 -0.04 0"/>
            <geometry>
                <cylinder length="0.08" radius="0.065"/>
            </geometry>
        </collision>
        <collision>
            <origin rpy="0 0 0" xyz="0 -0.03 -0.1413135"/>
            <geometry>
                <box size="0.075 0.06 0.282627"/>
            </geometry>
        </collision>
        <inertial>
            <origin rpy="0 0 0" xyz="-0.0 -0.018 -0.169"/>
            <mass value="1.03"/>
            <inertia ixx="0.018644469" ixy="5.2e-08" ixz="-1.0157e-05" iyy="0.019312599" iyz="-0.002520077" izz="0.002838361"/>
        </inertial>
    </link>
    <!-- joint thigh KFE -->
    <joint name="RH_thigh_fixed_RH_KFE" type="fixed">
        <parent link="RH_thigh_fixed"/>
        <child link="RH_KFE"/>
        <origin rpy="0 0 -1.57079632679" xyz="-0.0 -0.1003 -0.285"/>
    </joint>
    <!-- Drive link -->
    <link name="RH_KFE">
        <visual>
            <origin rpy="0 0 0" xyz="0 0 0"/>
            <geometry>
                <mesh filename="drive.stl" scale="1.0 1.0 1.0"/>
            </geometry>
        </visual>
        <collision>
            <origin rpy="0 1.57079632679 0" xyz="-0.07 0 0"/>
            <geometry>
                <cylinder length="0.14" radius="0.05"/>
            </geometry>
        </collision>
        <inertial>
            <origin rpy="0 0 0" xyz="-0.063 7e-05 0.00046"/>
            <mass value="2.04"/>
            <inertia ixx="0.001053013" ixy="4.527e-05" ixz="8.855e-05" iyy="0.001805509" iyz="9.909e-05" izz="0.001765827"/>
        </inertial>
    </link>
    <!-- joint Drive output -->
    <joint name="RH_KFE" type="revolute">
        <parent link="RH_KFE"/>
        <child link="RH_SHANK"/>
        <origin rpy="0 0 0" xyz="0 0 0"/>
        <axis xyz="-1 0 0"/>
        <limit effort="80.0" lower="-9.42477796077" upper="9.42477796077" velocity="7.5"/>
        <dynamics damping="0.0" friction="0.0"/>
    </joint>
    <!-- Drive output link -->
    <link name="RH_SHANK">
        <inertial>
            <origin rpy="0 0 0" xyz="0 0 0"/>
            <mass value="0.001"/>
            <inertia ixx="0.000001" ixy="0.0" ixz="0.0" iyy="0.000001" iyz="0.0" izz="0.000001"/>
        </inertial>
    </link>
    <!-- joint KFE shank -->
    <joint name="RH_shank_RH_shank_fixed" type="fixed">
        <parent link="RH_SHANK"/>
        <child link="RH_shank_fixed"/>
        <origin rpy="0 0 1.57079632679" xyz="0 0 0"/>
    </joint>
    <!-- Shank link -->
    <link name="RH_shank_fixed">
        <visual>
            <origin rpy="0 0 -3.14159265359" xyz="0 0 0"/>
            <geometry>
                <mesh filename="shank_l.stl" scale="1.0 1.0 1.0"/>
            </geometry>
        </visual>
        <!-- Shank collision -->
        <collision>
            <origin rpy="1.57079632679 0 0" xyz="0 -0.02 0"/>
            <geometry>
                <cylinder length="0.04" radius="0.06"/>
            </geometry>
        </collision>
        <collision>
            <origin rpy="1.57079632679 0 0" xyz="-0.057499 -0.02 0"/>
            <geometry>
                <box size="0.114998 0.0675 0.04"/>
            </geometry>
        </collision>
        <inertial>
            <origin rpy="0 0 0" xyz="-0.03463 -0.00688 0.00098"/>
            <mass value="0.33742"/>
            <inertia ixx="0.00032748005" ixy="2.142561e-05" ixz="-1.33942e-05" iyy="0.00110974122" iyz="-7.601e-08" izz="0.00089388521"/>
        </inertial>
    </link>
    <!-- Leg configurations: xx (knees bent inwards), xo (knees bent backwards) -->
    <!-- joint shank foot -->
    <joint name="RH_shank_fixed_RH_FOOT" type="fixed">
        <parent link="RH_shank_fixed"/>
        <child link="RH_FOOT"/>
        <origin rpy="0 0 0" xyz="-0.08795 -0.01305 -0.33797"/>
    </joint>
    <!-- Foot link -->
    <link name="RH_FOOT">
        <visual>
            <origin rpy="0 0 -3.92699081699" xyz="0 0 0"/>
            <geometry>
                <mesh filename="foot.stl" scale="1.0 1.0 1.0"/>
            </geometry>
        </visual>
        <!-- Adapter collision -->
        <collision>
            <origin rpy="0 0 0" xyz="0 0 0.168985"/>
            <geometry>
                <cylinder length="0.282504" radius="0.0175"/>
            </geometry>
        </collision>
        <!-- Foot collision -->
        <collision>
            <origin xyz="0 0 0.0225"/>
            <geometry>
                <sphere radius="0.03"/>
            </geometry>
        </collision>
        <inertial>
            <origin rpy="0 0 0" xyz="-0.00948 0.00948 0.1468"/>
            <mass value="0.25"/>
            <inertia ixx="0.00317174097" ixy="2.63048e-06" ixz="-6.815581e-05" iyy="0.00317174092" iyz="-6.815583e-05" izz="8.319196e-05"/>
        </inertial>
    </link>
    <!-- Fixed joint base hatch -->
    <joint name="base_hatch" type="fixed">
        <parent link="base"/>
        <child link="hatch"/>
        <origin rpy="0 0 0" xyz="0.0 0.0 0.0"/>
    </joint>
    <!-- Hatch link -->
    <link name="hatch">
        <visual>
            <origin rpy="0 0 0" xyz="0.116 0 0.073"/>
            <geometry>
                <mesh filename="hatch.stl" scale="1.0 1.0 1.0"/>
            </geometry>
        </visual>
        <inertial>
            <origin rpy="0 0 0" xyz="0.116 0.0 0.0758"/>
            <mass value="0.142"/>
            <inertia ixx="0.001" ixy="0.001" ixz="0.001" iyy="0.001" iyz="0.001" izz="0.001"/>
        </inertial>
    </link>
</robot>
